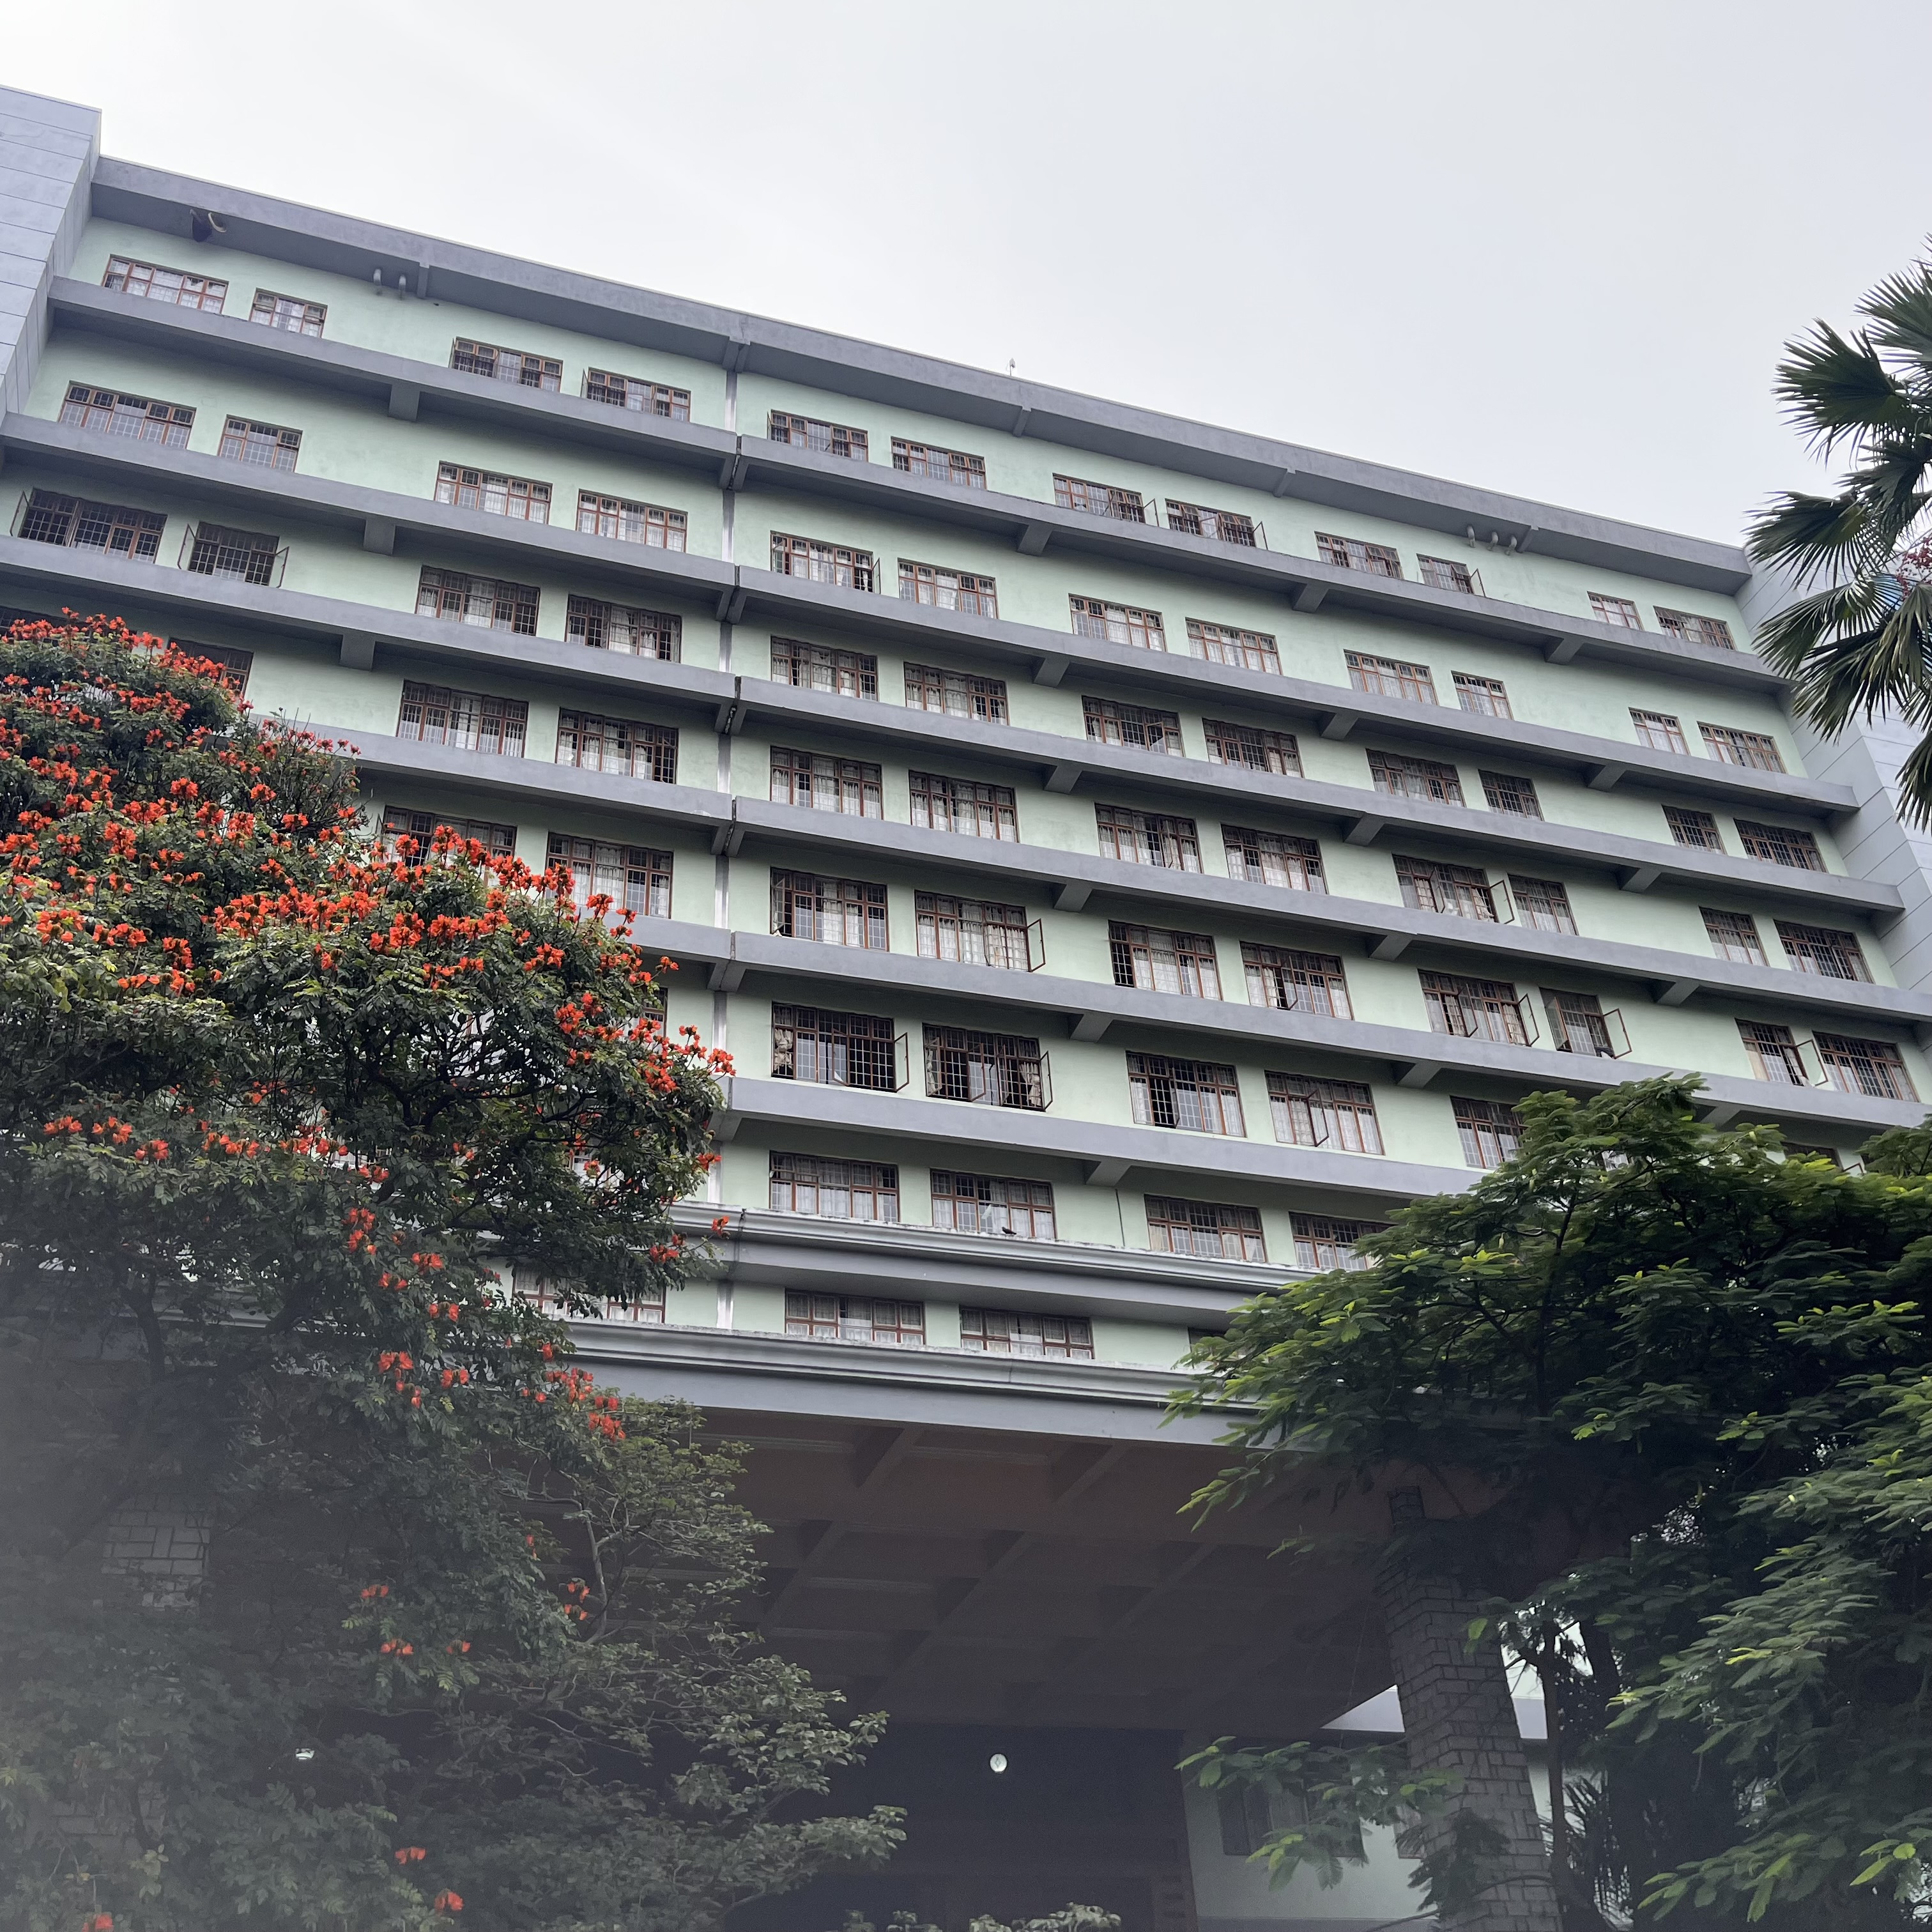Central Block: (488, 156, 1529, 1932)
